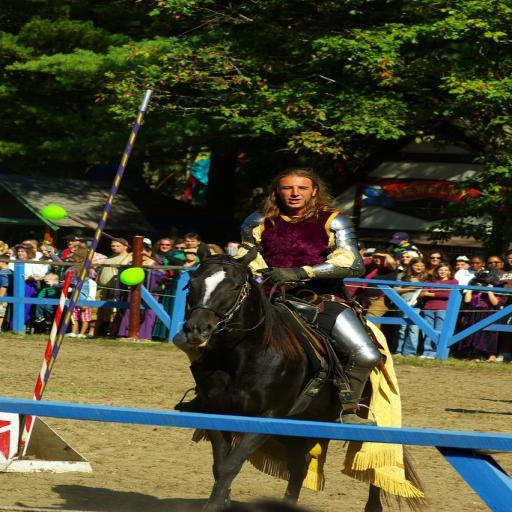horse: (180, 239, 432, 512)
